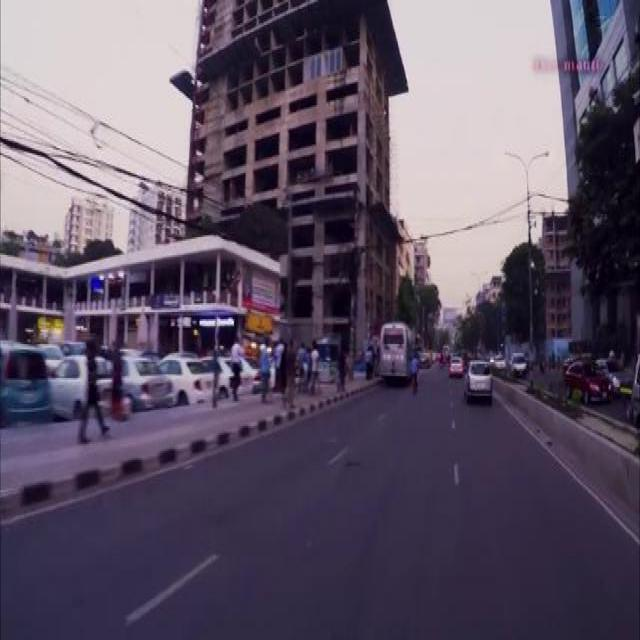vehicle: (50, 353, 112, 410), (115, 355, 174, 401), (161, 353, 214, 400), (380, 318, 418, 377), (566, 360, 613, 401), (216, 353, 253, 389), (465, 360, 494, 401), (241, 353, 267, 389), (449, 354, 461, 374)
